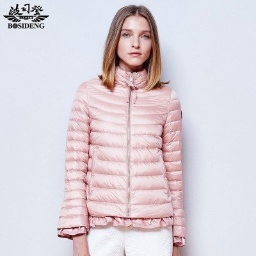face: (103, 4, 165, 91)
